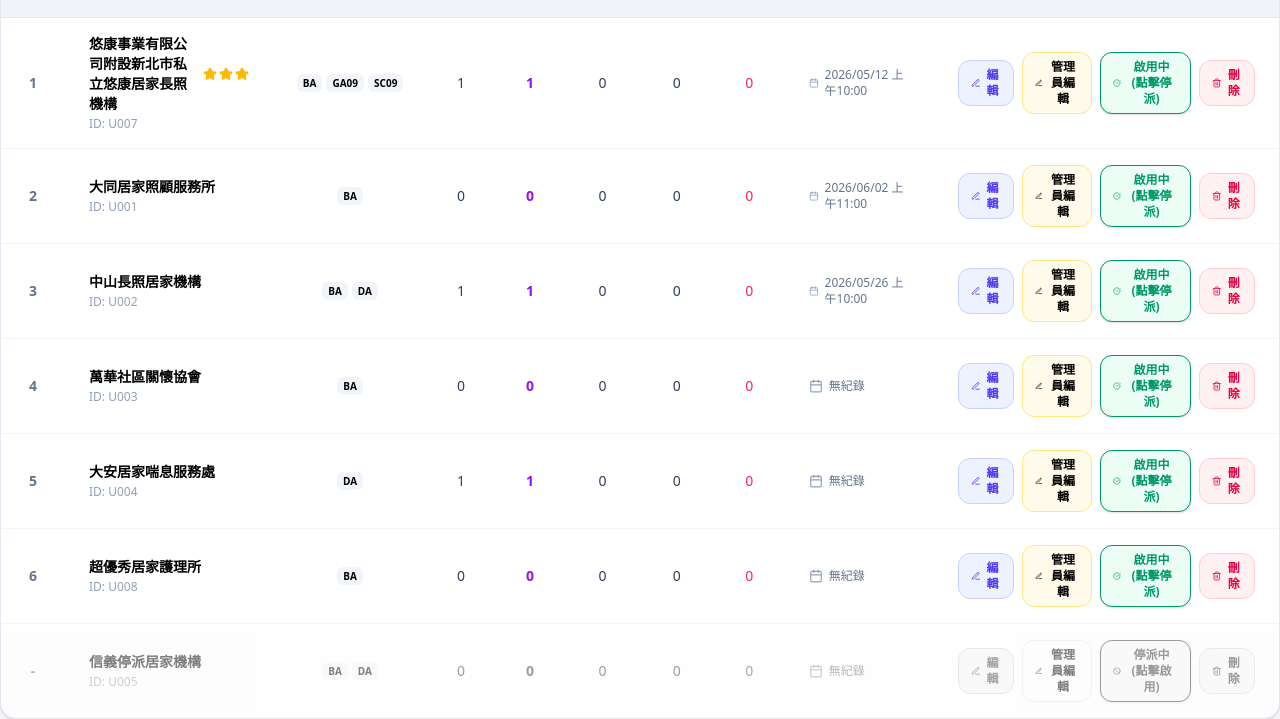
Test: Units Page Integration Test › should prompt confirmation modal when clicking delete and remove unit upon confirmation
(page scrolled)
expect the text "萬華社區關懷協會" is shown: met, box [89,367,201,387]
Note: Click "刪除" button in U003 row
Click the button "刪除" in the row of "萬華社區關懷協會" at (1227, 386), box [1199,363,1255,409]
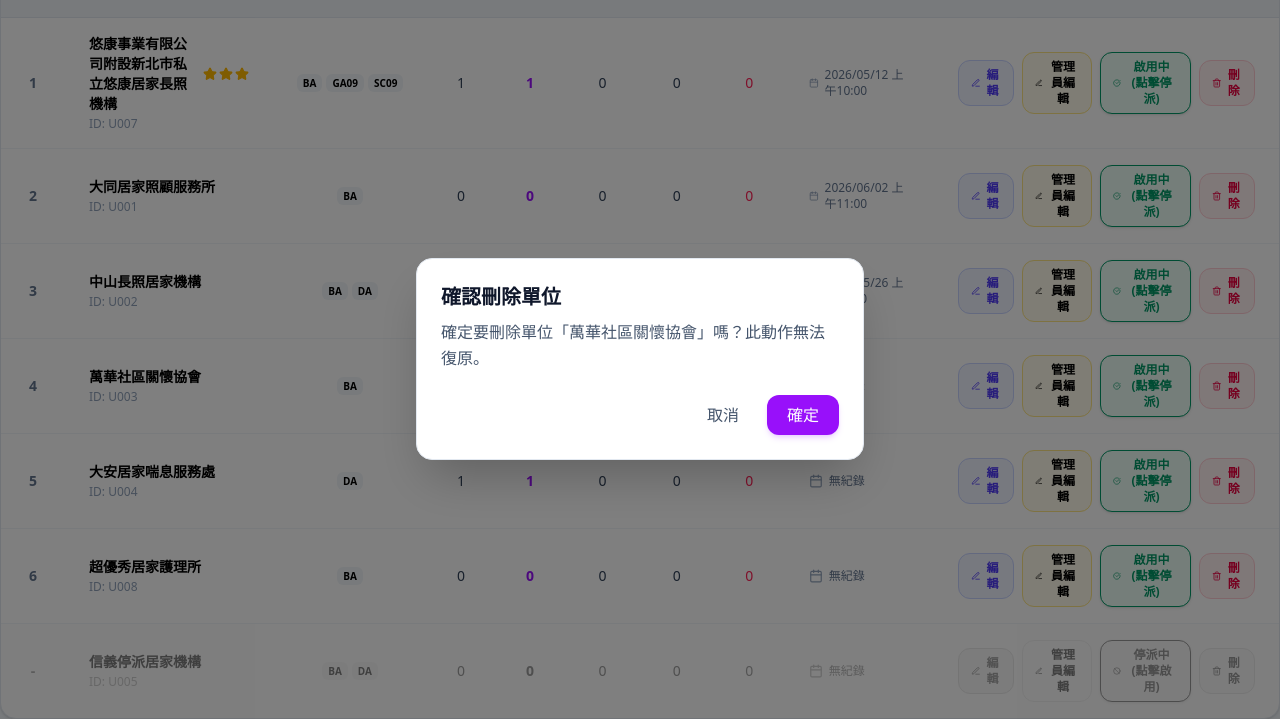
expect the heading "確認刪除單位" is shown: met, box [441,283,561,310]
expect the text "確定要刪除單位「萬華社區關懷協會」嗎？此動作無法復原。" is shown: met, box [441,319,839,371]
Note: Click "確定" in the confirmation dialog
Click the button "確定" at (803, 415), box [767,395,839,435]
(page scrolled)
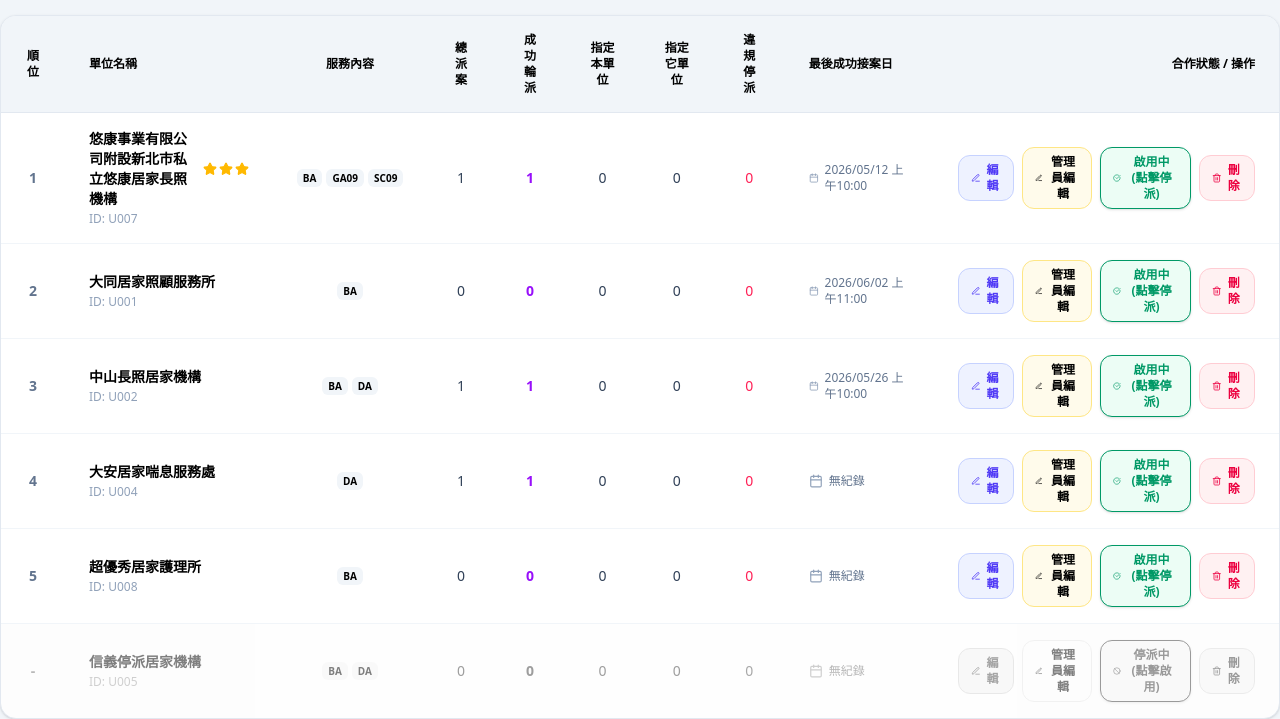
expect the text "萬華社區關懷協會" is gone: met
